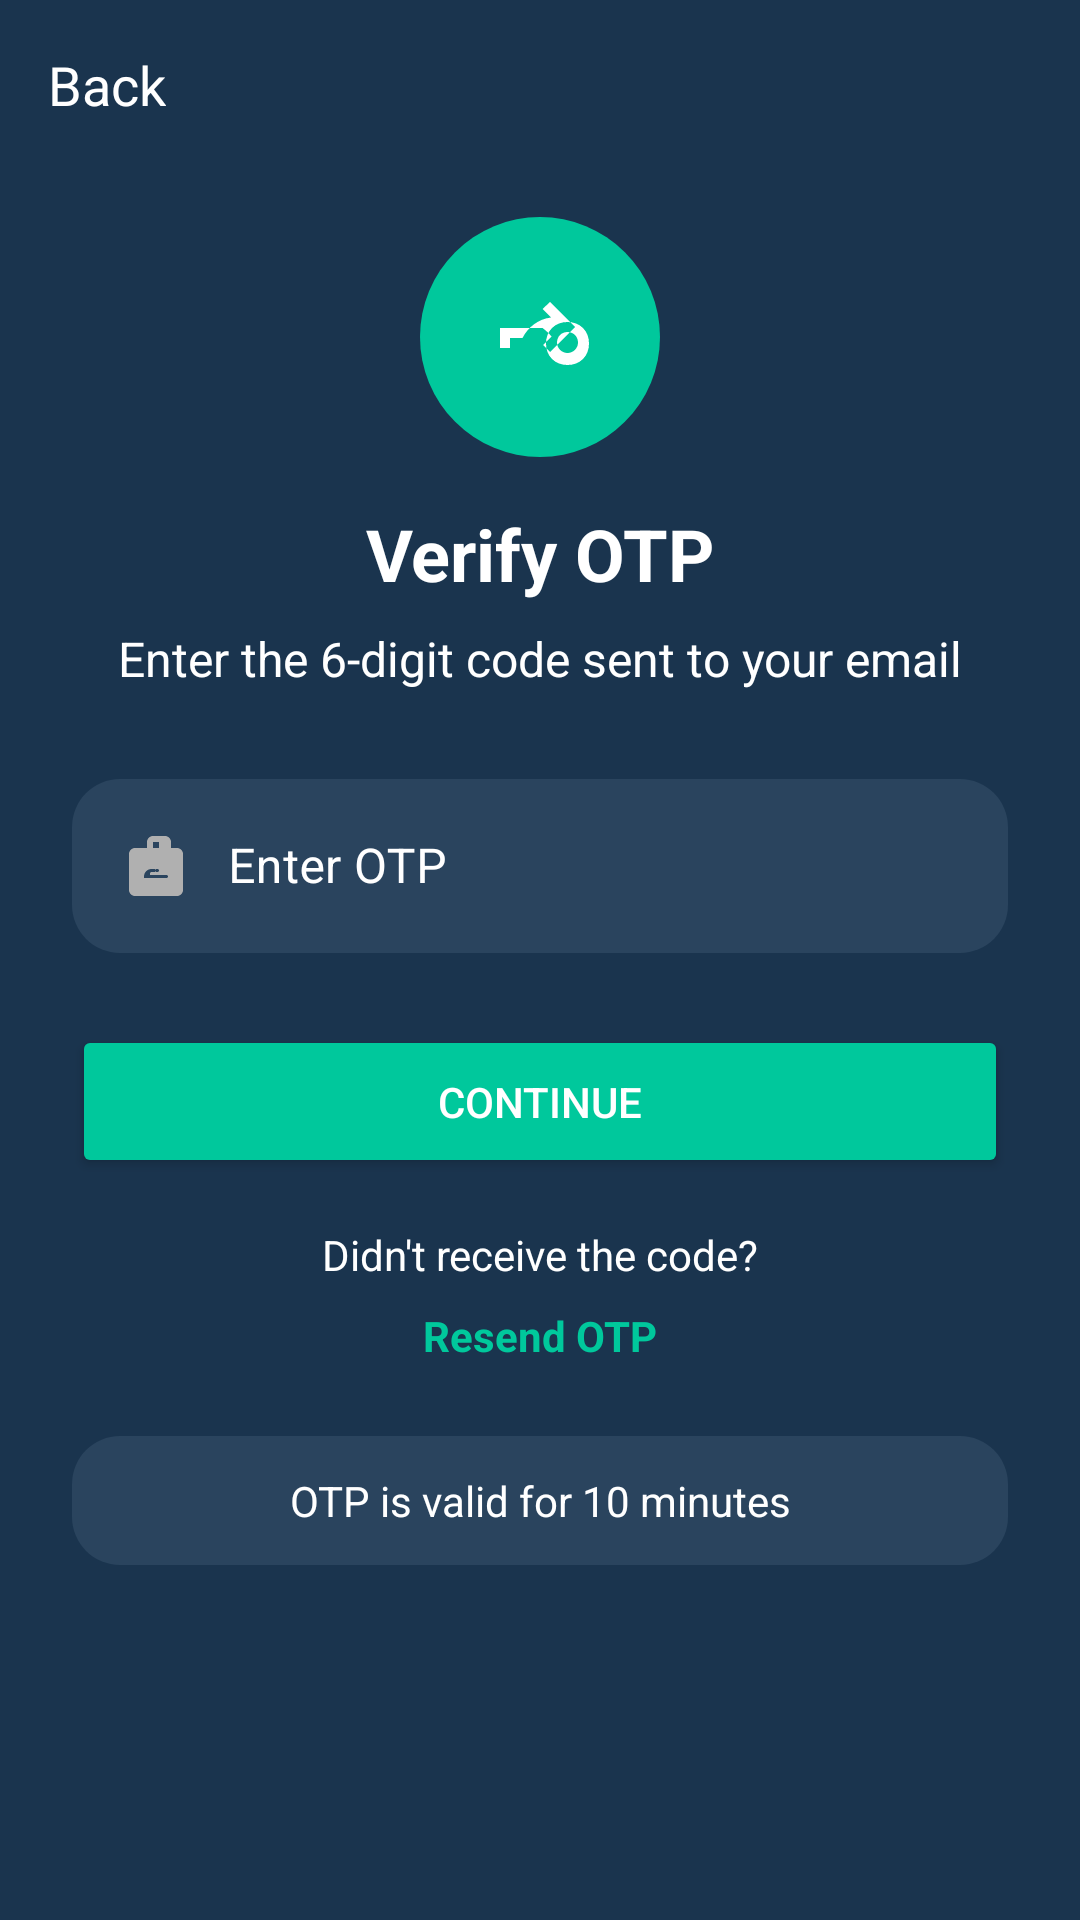

Named icons in this screenshot (1080px×1920px) and their centers, [x,y]:
key: [540,337]
